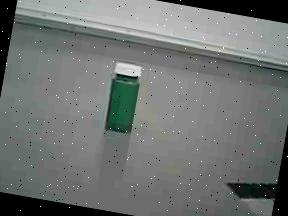Bottle C: (91, 52, 160, 142)
